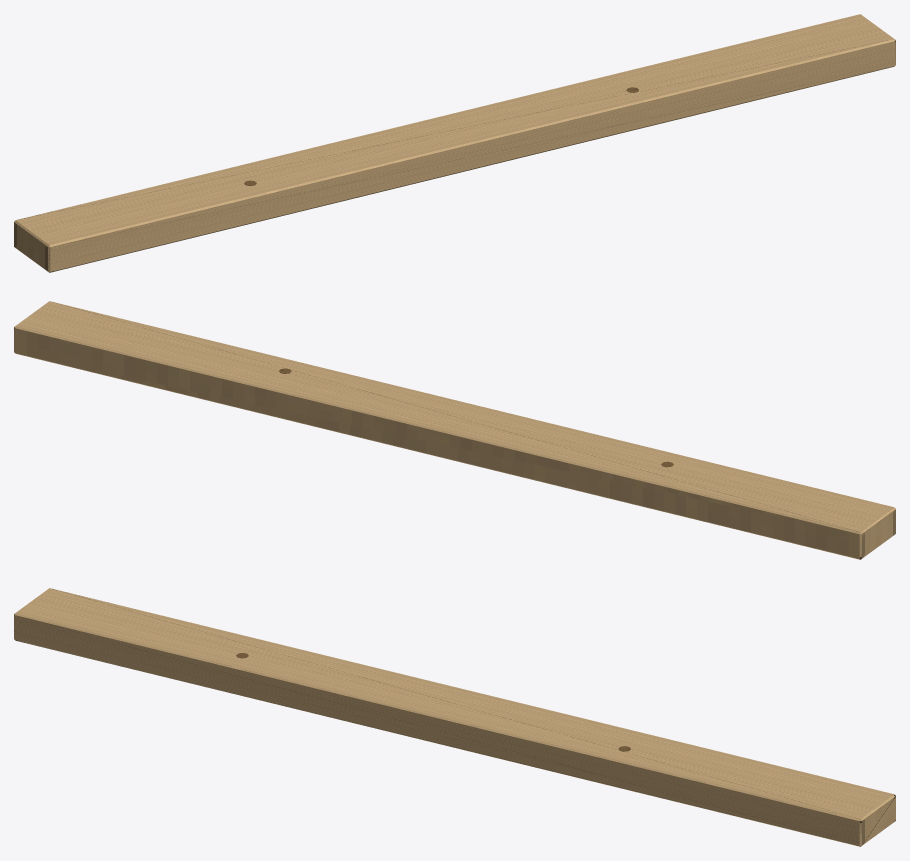
3 renders of one model, top to bottom at view 1: azimuth 30°, elevation 25°; view 2: azimuth 150°, elevation 25°; view 3: azimuth 330°, elevation 25°, orthographic.
Parts seen in each view (by area): view 1: block_plank; view 2: block_plank; view 3: block_plank.
Boxes of the visible parts, bbox=[...] form: block_plank: bbox=[14, 14, 895, 272]; block_plank: bbox=[14, 301, 895, 559]; block_plank: bbox=[14, 588, 895, 846].
Bounding box in the file's own units: 1.22 × 0.0384 × 0.089.
1 material, 1 textured.
